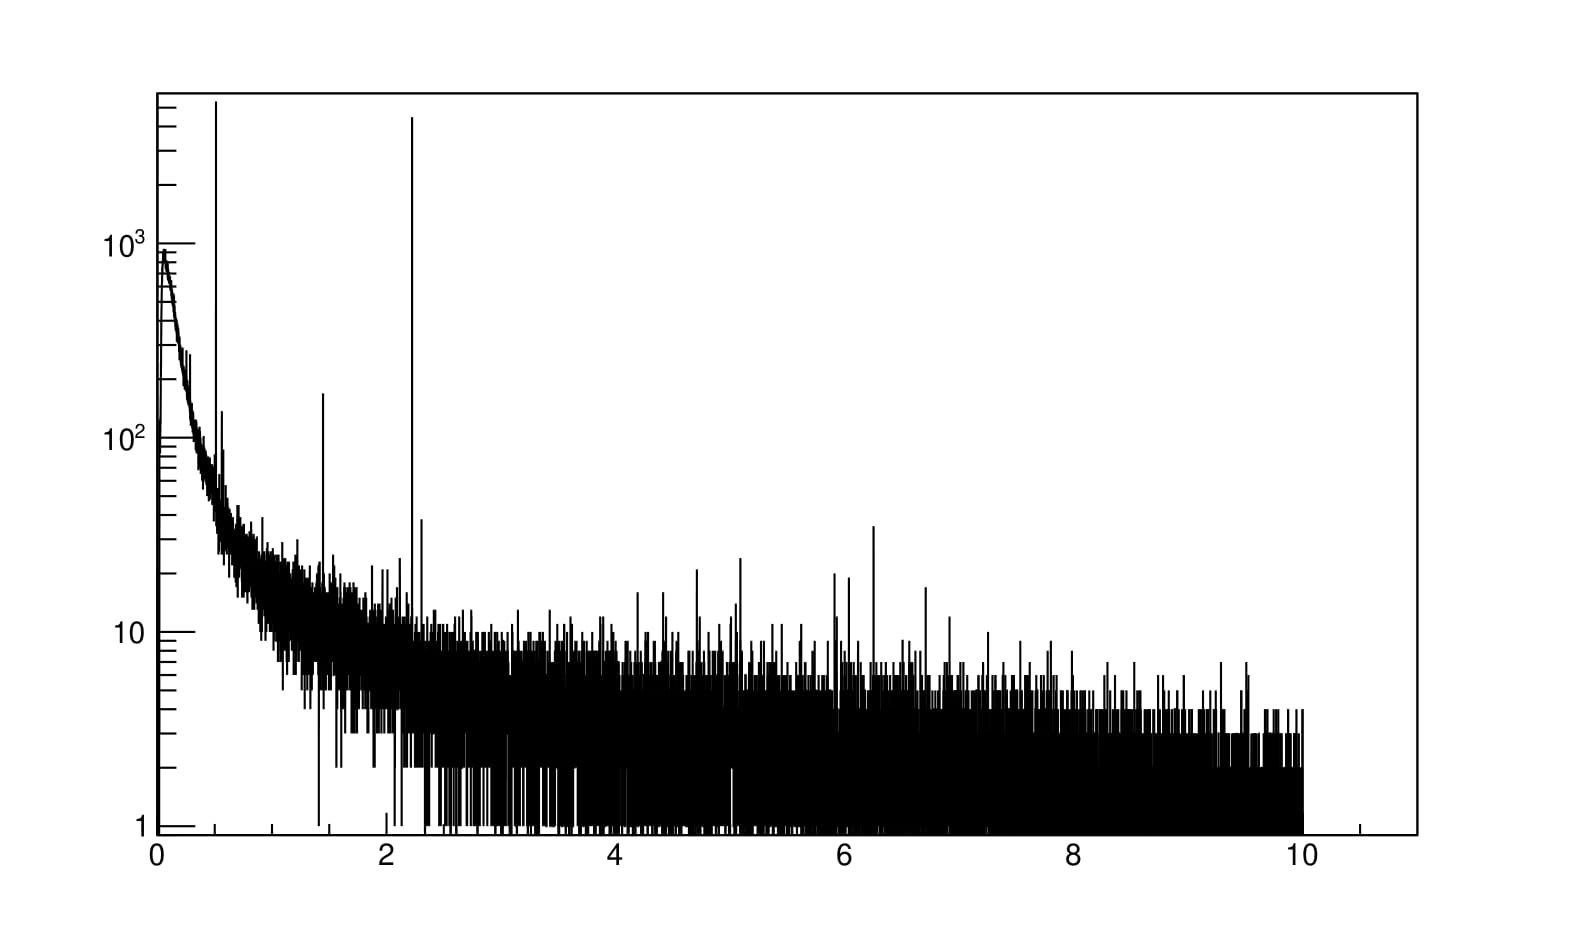gauss: (400, 118, 433, 690), (202, 99, 236, 549), (315, 381, 337, 607)
other: (450, 601, 1332, 848)
